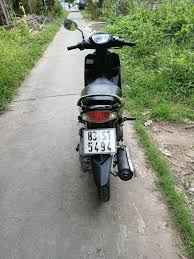Bien-so: (82, 129, 117, 154)
